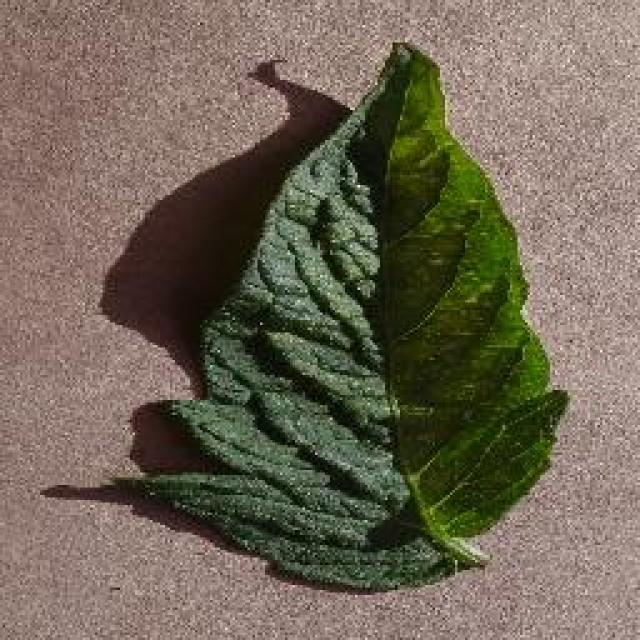Tomato___Spider_mites Two-spotted_spider_mite: (132, 42, 565, 588)
